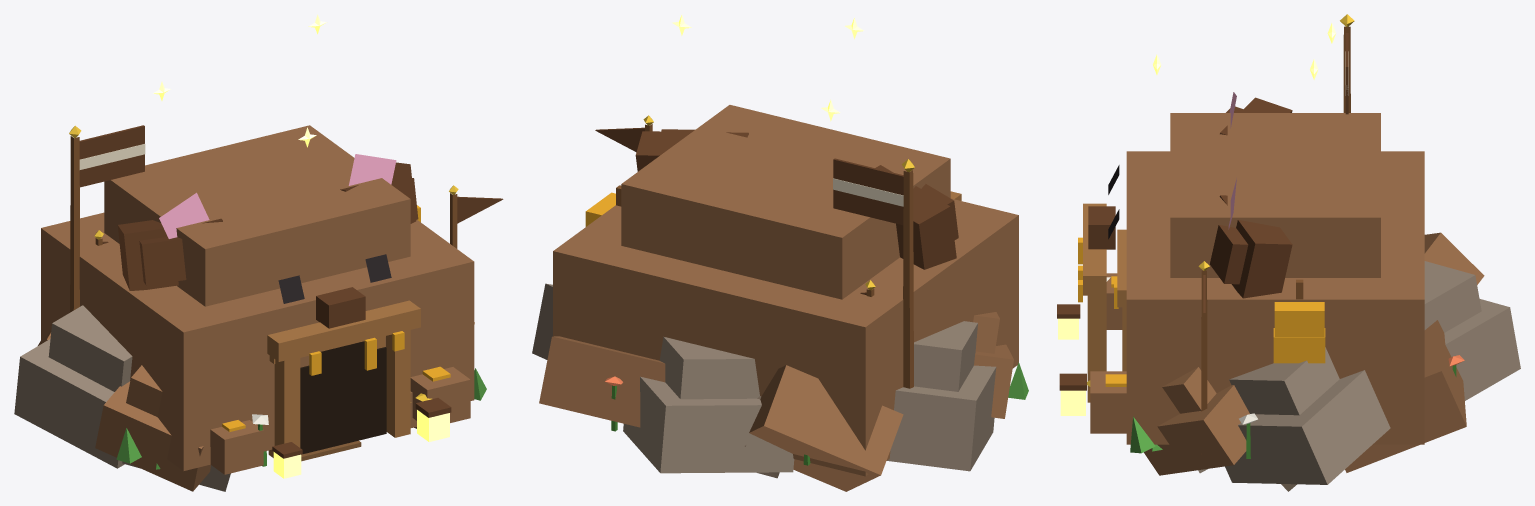
Rendered from bear-honey-cave-blocky.glb.
The picture shows the model from 3 angles, left to right: view 1: azimuth 30°, elevation 25°; view 2: azimuth 150°, elevation 25°; view 3: azimuth 270°, elevation 25°; orthographic projection. The views are drawn at different scales.
Parts seen in each view (by area): view 1: lv3, lv2; view 2: lv3; view 3: lv3, lv2.
Boxes of the visible parts, box(x1,y1,x2,y2) form: lv3: box(14, 14, 503, 491); lv2: box(94, 230, 416, 491); lv3: box(532, 14, 1028, 491); lv3: box(1057, 14, 1520, 484); lv2: box(1114, 229, 1296, 491).
Bounding box in the file's own units: 2.12 × 1.88 × 1.95.
